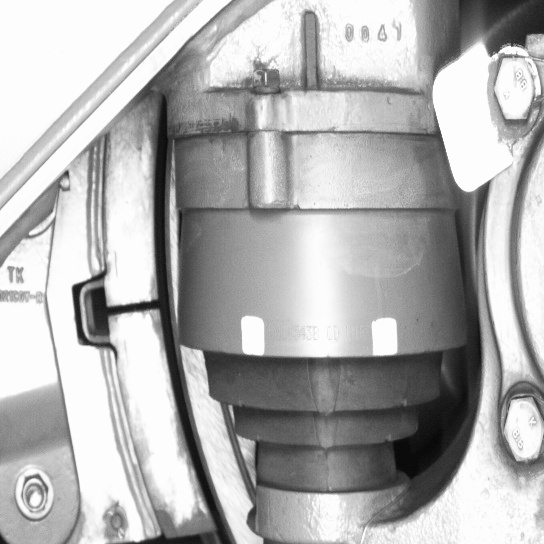KnifeSwitch: (107, 132, 239, 541)
